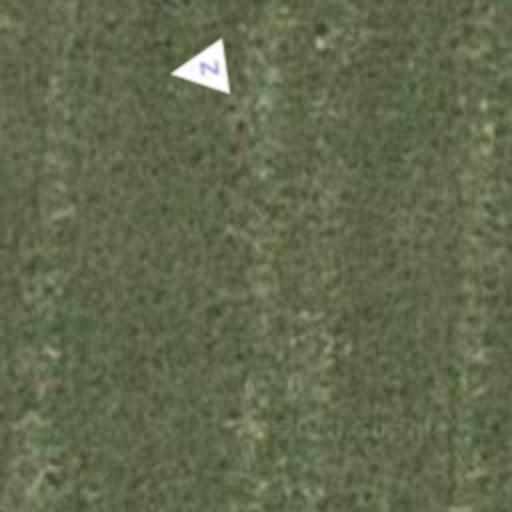triangle: (164, 36, 232, 104)
